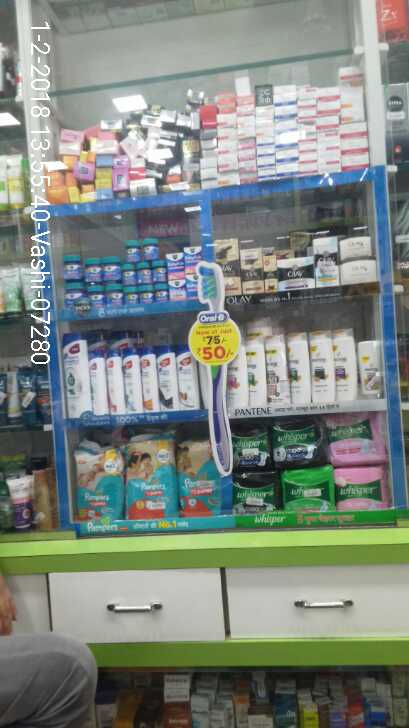beauty: (60, 331, 94, 418), (331, 326, 361, 402), (309, 332, 335, 405), (264, 337, 290, 410), (244, 337, 268, 407), (287, 331, 309, 407), (153, 345, 178, 411), (312, 235, 339, 285), (238, 246, 265, 296), (277, 257, 313, 289)
pharmacy: (125, 432, 180, 514), (73, 442, 124, 520), (324, 412, 393, 465), (269, 416, 328, 466), (228, 419, 275, 468), (281, 468, 336, 509), (336, 468, 390, 509), (232, 474, 279, 509), (61, 255, 85, 281), (83, 255, 105, 282), (101, 257, 122, 283), (140, 237, 161, 260), (123, 240, 140, 264)
